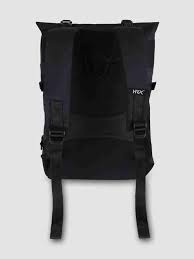backpack: (35, 18, 159, 239)
